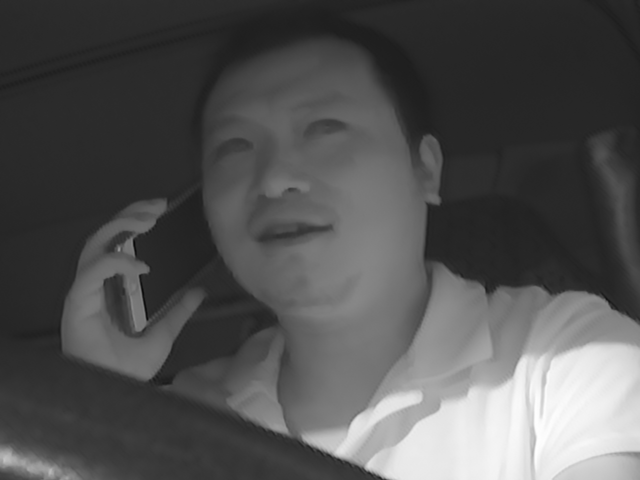hand: (58, 196, 200, 379)
